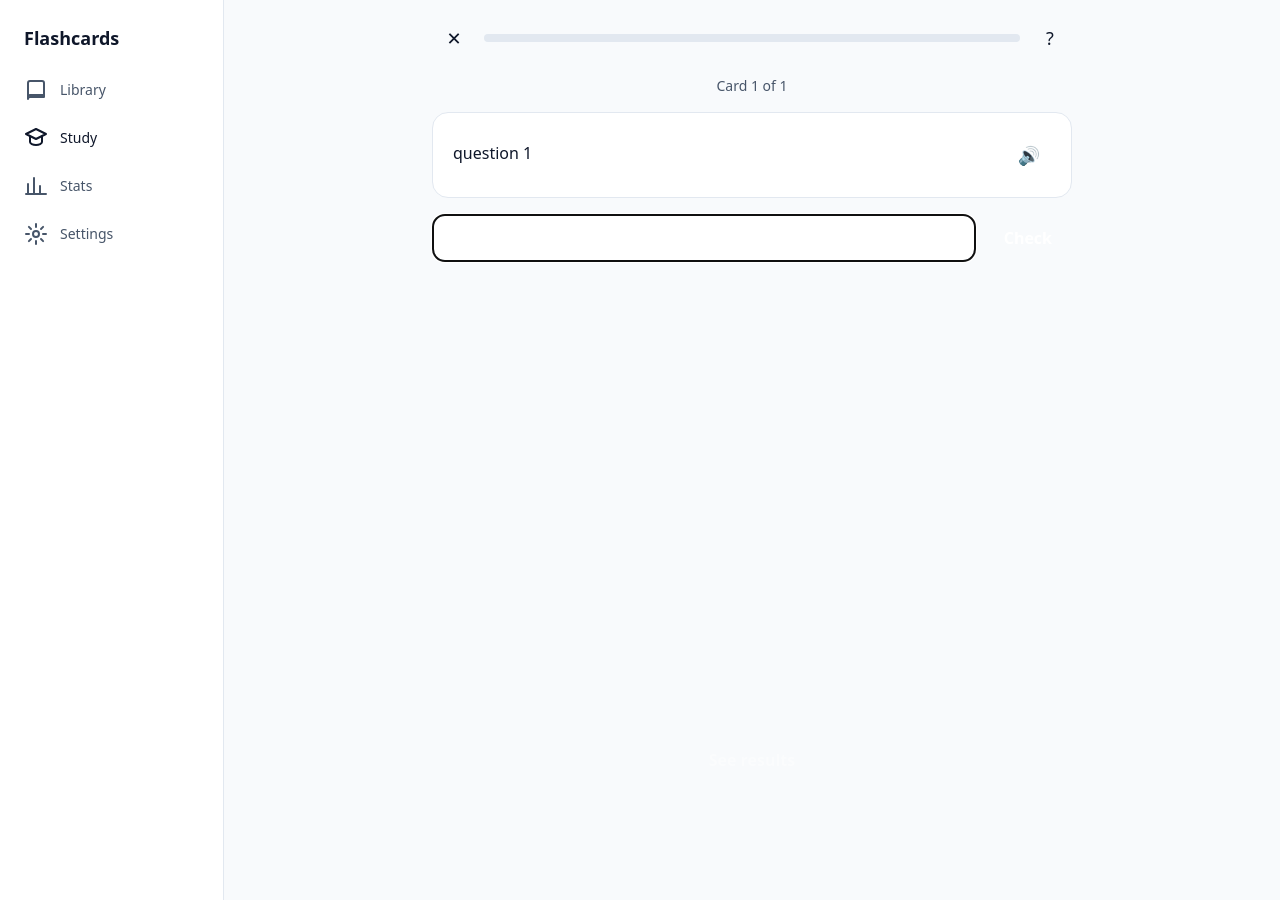
Scenario: type mode › a wrong answer logs false and "I was right" flips the same log to correct
Type "nonsense" into the field named "Your answer" at (704, 238), box [432,214,976,262]
Then press Enter
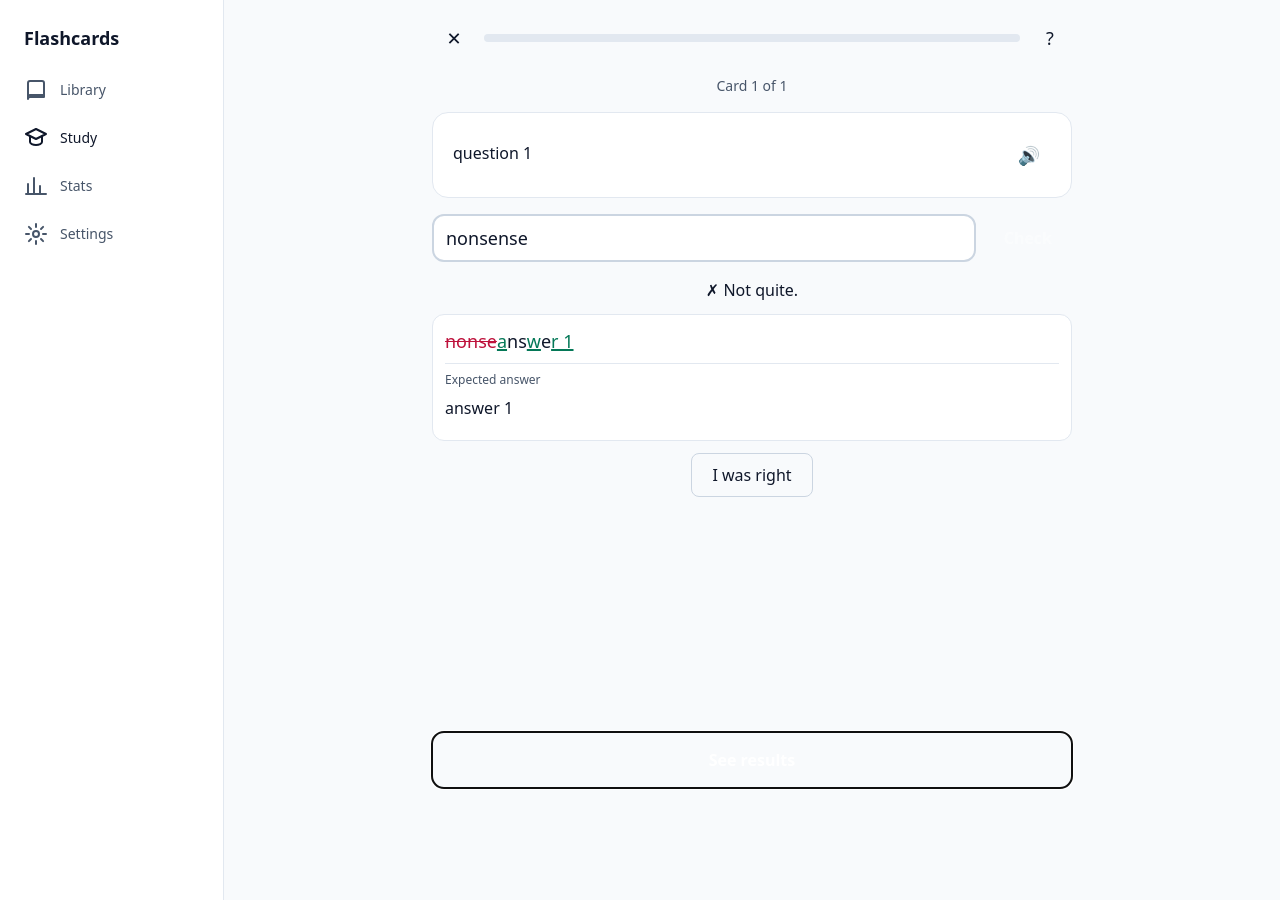
expect the text "Not quite." is shown: met, box [723,279,798,301]
expect the text "answer 1" is shown: met, box [445,397,513,419]
Click the button "I was right" at (752, 475), box [691,453,813,497]
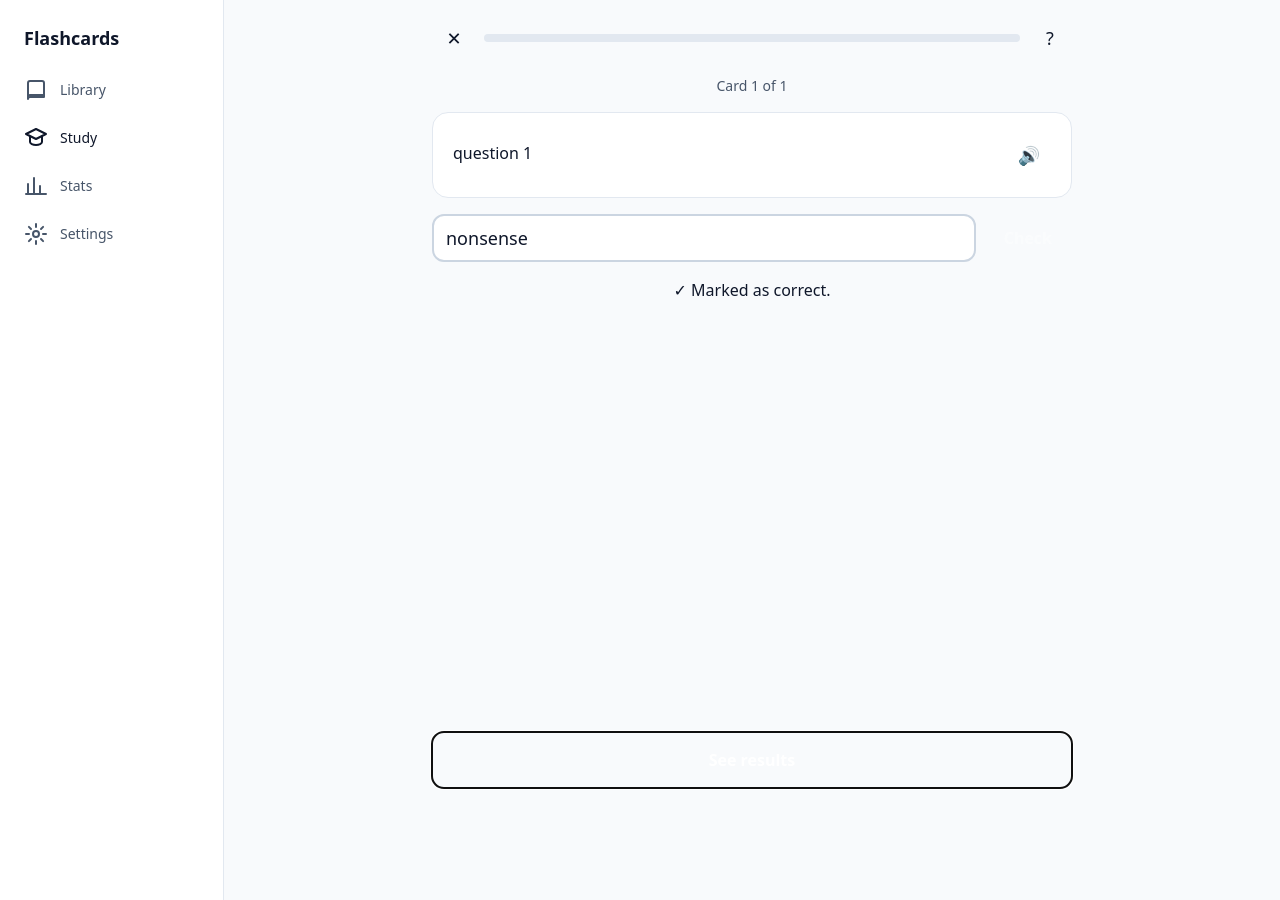
expect the text "Marked as correct." is shown: met, box [691,279,830,301]
expect the button "I was right" is gone: met
Press Enter
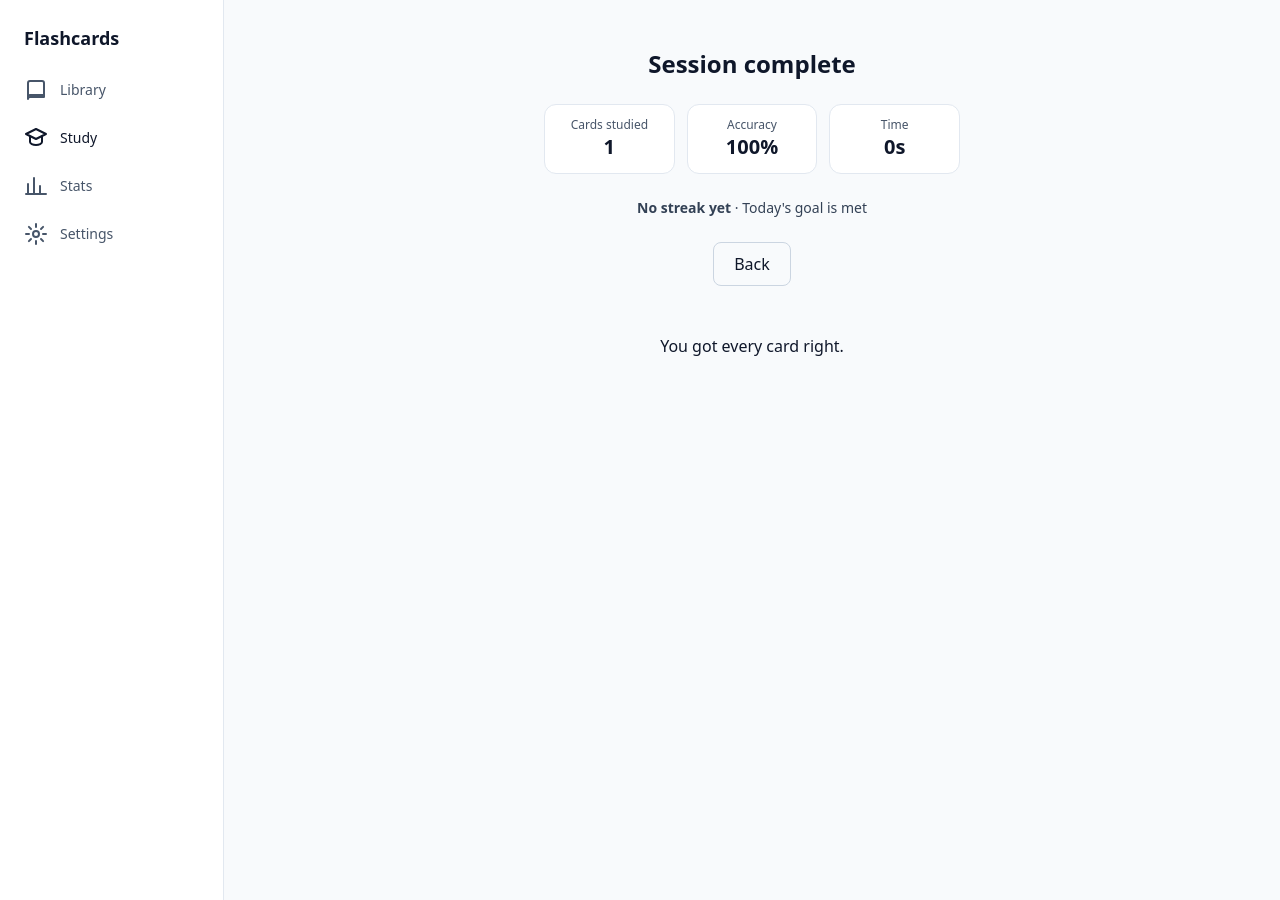
expect the text "100%" is shown: met, box [726,133,778,160]
